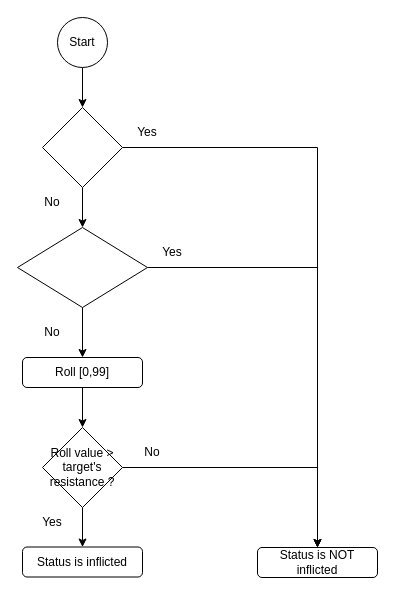
Some shapes in this 395 by 595 pixel diagram are drawn without their labels. The shapes that lost their labels are listed below. From the top down, each one's box as (x1, y1, x2, y2) in pixels, then its label:
(42, 106, 122, 188): Is the target KO'd ?
(16, 226, 148, 308): Is the target's resistance to that ailment 100% ?
